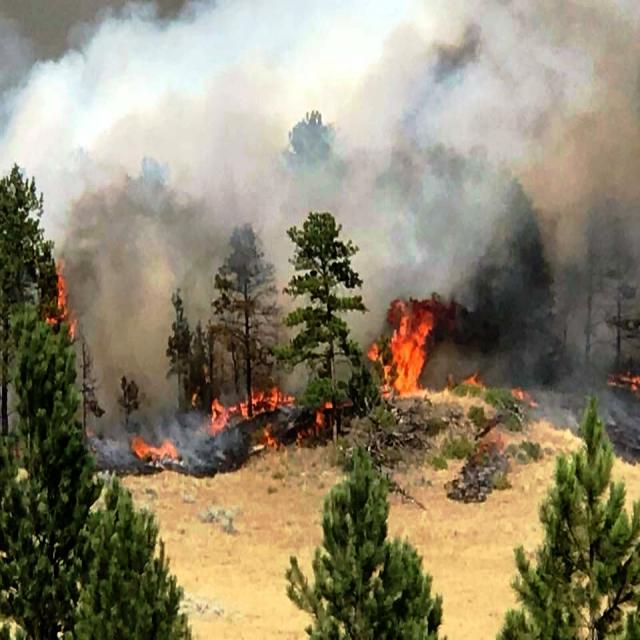api: (199, 377, 345, 465), (368, 298, 438, 403)
asap: (1, 1, 640, 281)
